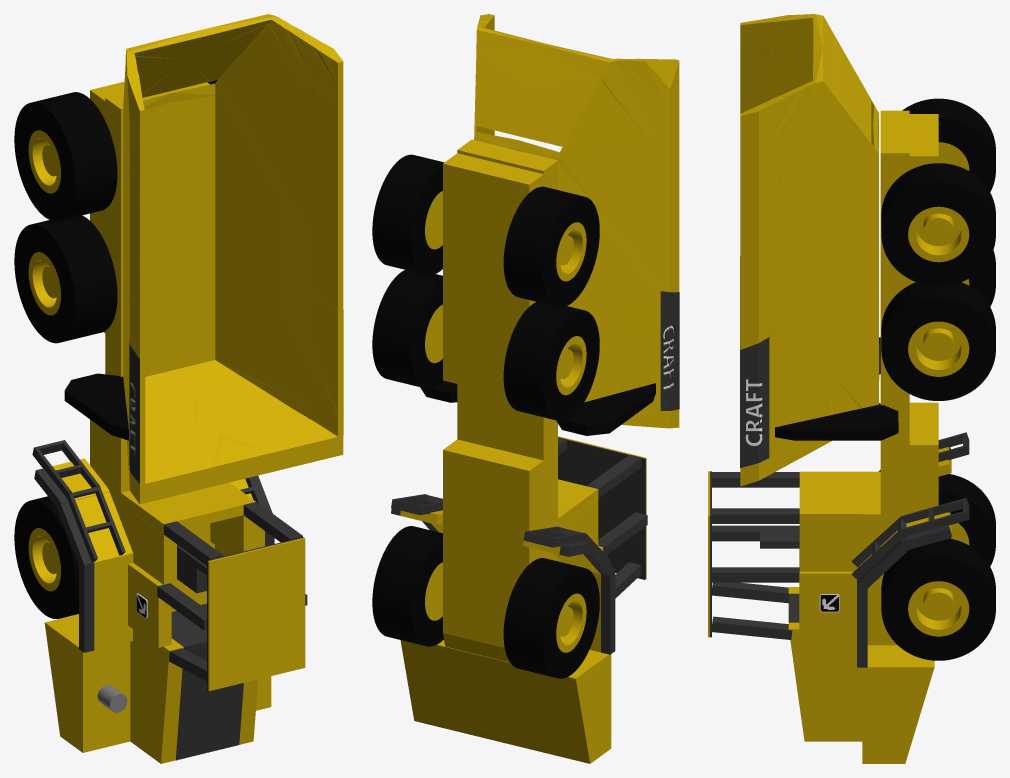
File: dumptruck.obj
3 renders of one model, left to right at view 1: azimuth 30°, elevation 25°; view 2: azimuth 150°, elevation 25°; view 3: azimuth 270°, elevation 25°, orthographic. The views are drawn at different scales.
Parts seen in each view (by area): view 1: Object.40, Object.19, Object.34, Object.8, Object.10, Object.36, Object.25, Object.12, Object.24, Object.26, Object.1, Object.21 (+13 smaller); view 2: Object.40, Object.36, Object.19, Object.16, Object.35, Object.8, Object.12, Object.10, Object.6, Object.2, Object.4, Object.33 (+15 smaller); view 3: Object.40, Object.19, Object.2, Object.4, Object.6, Object.36, Object.8, Object.24, Object.35, Object.20, Object.22, Object.16 (+16 smaller).
Part boxes in pixels (bbox=[...]): Object.40: bbox=[64, 14, 343, 504]; Object.19: bbox=[44, 603, 271, 763]; Object.34: bbox=[208, 538, 305, 691]; Object.8: bbox=[14, 92, 117, 221]; Object.10: bbox=[14, 215, 117, 343]; Object.36: bbox=[90, 81, 209, 492]; Object.25: bbox=[52, 458, 133, 650]; Object.12: bbox=[14, 496, 78, 618]; Object.24: bbox=[130, 482, 255, 534]; Object.26: bbox=[34, 468, 94, 652]; Object.1: bbox=[32, 440, 125, 562]; Object.21: bbox=[128, 562, 171, 647]; Object.40: bbox=[420, 14, 679, 435]; Object.36: bbox=[443, 139, 557, 528]; Object.19: bbox=[400, 640, 611, 763]; Object.16: bbox=[443, 509, 567, 662]; Object.35: bbox=[443, 439, 543, 538]; Object.8: bbox=[503, 186, 599, 307]; Object.12: bbox=[503, 558, 599, 678]; Object.10: bbox=[503, 302, 599, 420]; Object.6: bbox=[372, 526, 443, 646]; Object.2: bbox=[372, 154, 444, 275]; Object.4: bbox=[372, 270, 444, 388]; Object.33: bbox=[558, 439, 645, 579]; Object.40: bbox=[740, 14, 898, 486]; Object.19: bbox=[788, 587, 934, 763]; Object.2: bbox=[881, 163, 995, 286]; Object.4: bbox=[881, 282, 995, 400]; Object.6: bbox=[881, 538, 995, 660]; Object.36: bbox=[880, 110, 938, 514]; Object.8: bbox=[902, 98, 995, 191]; Object.24: bbox=[799, 471, 862, 523]; Object.35: bbox=[909, 402, 938, 513]; Object.20: bbox=[799, 571, 856, 631]; Object.22: bbox=[799, 524, 862, 571]; Object.16: bbox=[862, 471, 906, 645].
Bounding box in the file's own units: 36.88 × 123 × 47.87.
